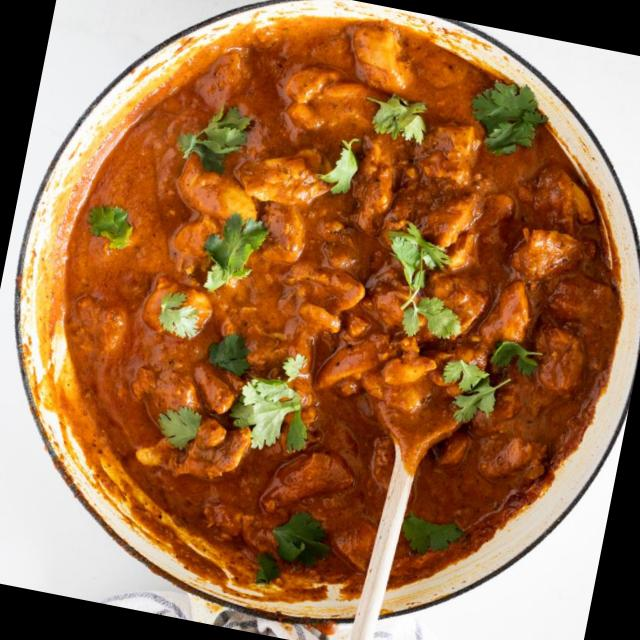chicken: (12, 0, 640, 633)
